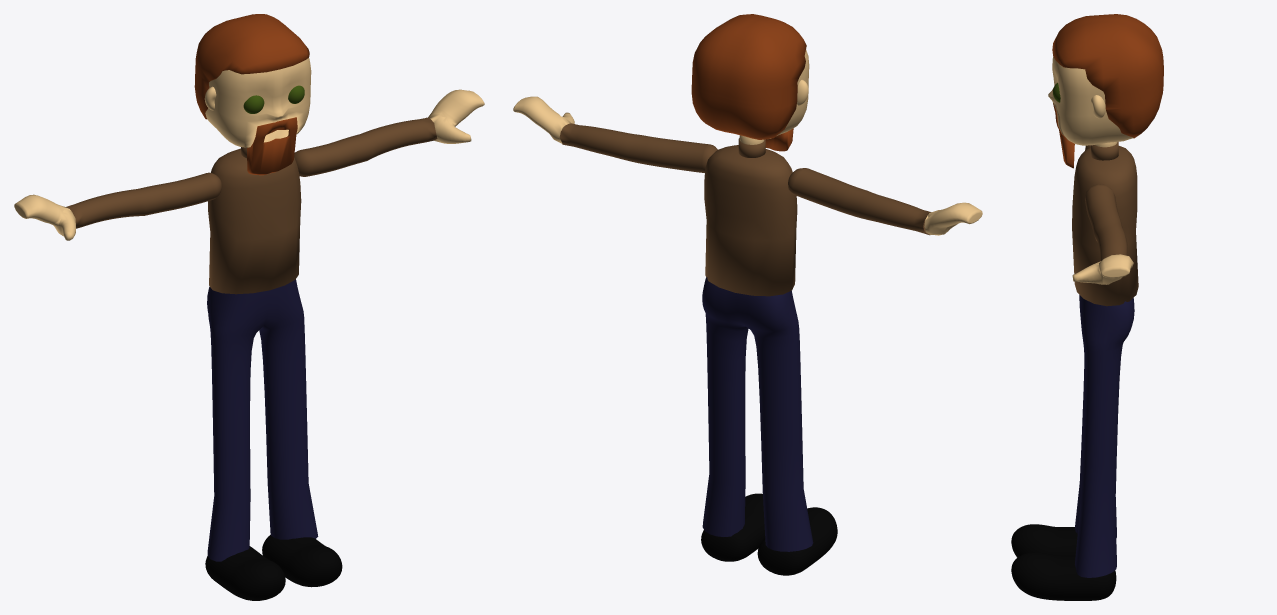
Rendered from MaleNPCseperated.fbx.
The picture shows the model from 3 angles, left to right: view 1: azimuth 30°, elevation 25°; view 2: azimuth 150°, elevation 25°; view 3: azimuth 270°, elevation 25°; orthographic projection. The views are drawn at different scales.
Visible parts, largest first — view 1: legs, torso, Sphere.026, Sphere.002, armR, armL, feetR, feetL; view 2: legs, torso, Sphere.002, armR, armL, feetL, feetR, Sphere.026; view 3: legs, Sphere.002, torso, Sphere.026, feetR, armR, feetL.
Boxes of the visible parts, <box> form: legs: <box>207,279,318,561</box>; torso: <box>208,147,301,294</box>; Sphere.026: <box>204,58,311,175</box>; Sphere.002: <box>194,14,309,119</box>; armR: <box>294,89,484,176</box>; armL: <box>14,172,221,240</box>; feetR: <box>262,535,342,587</box>; feetL: <box>205,546,285,600</box>; legs: <box>702,277,813,551</box>; torso: <box>704,138,797,296</box>; Sphere.002: <box>691,14,806,139</box>; armR: <box>513,96,717,172</box>; armL: <box>788,168,982,235</box>; feetL: <box>757,507,837,575</box>; feetR: <box>701,493,765,561</box>; Sphere.026: <box>739,49,809,151</box>; legs: <box>1075,295,1134,577</box>; Sphere.002: <box>1052,14,1163,138</box>; torso: <box>1072,141,1138,306</box>; Sphere.026: <box>1048,56,1132,168</box>; feetR: <box>1011,552,1116,600</box>; armR: <box>1072,184,1133,284</box>; feetL: <box>1011,524,1077,557</box>.
Size of the model in its own units: 788 by 902 by 366.
